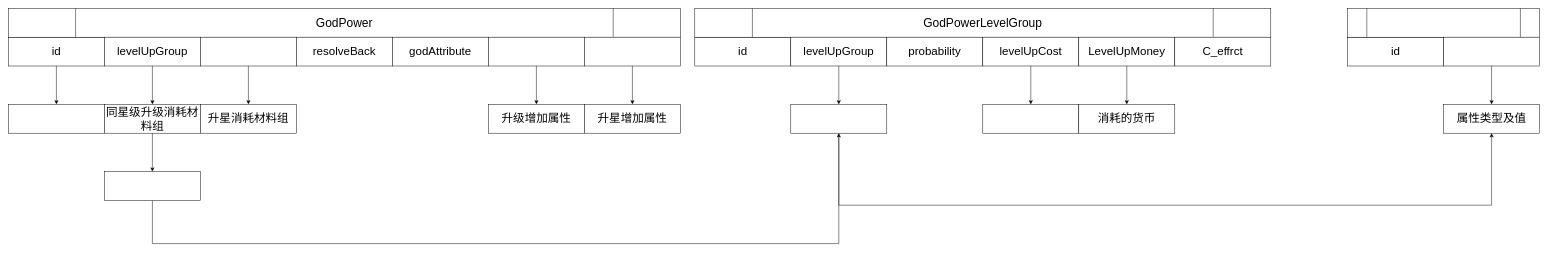
This 1548x256 diagram has some shape labels left out. Each missing label, with the box of its shape:
attribute: (1443, 37, 1540, 66)
GodPowerAttribute: (1347, 8, 1540, 37)
levelAttributeType: (488, 37, 584, 66)
starAttributeType: (584, 37, 680, 66)
starUpGroup: (200, 37, 296, 66)
升级属性提升和次数: (790, 104, 887, 133)
天神ID: (8, 104, 104, 133)
数量:可以使用的材料: (982, 104, 1079, 133)
该星级升级次数: (104, 171, 200, 200)
